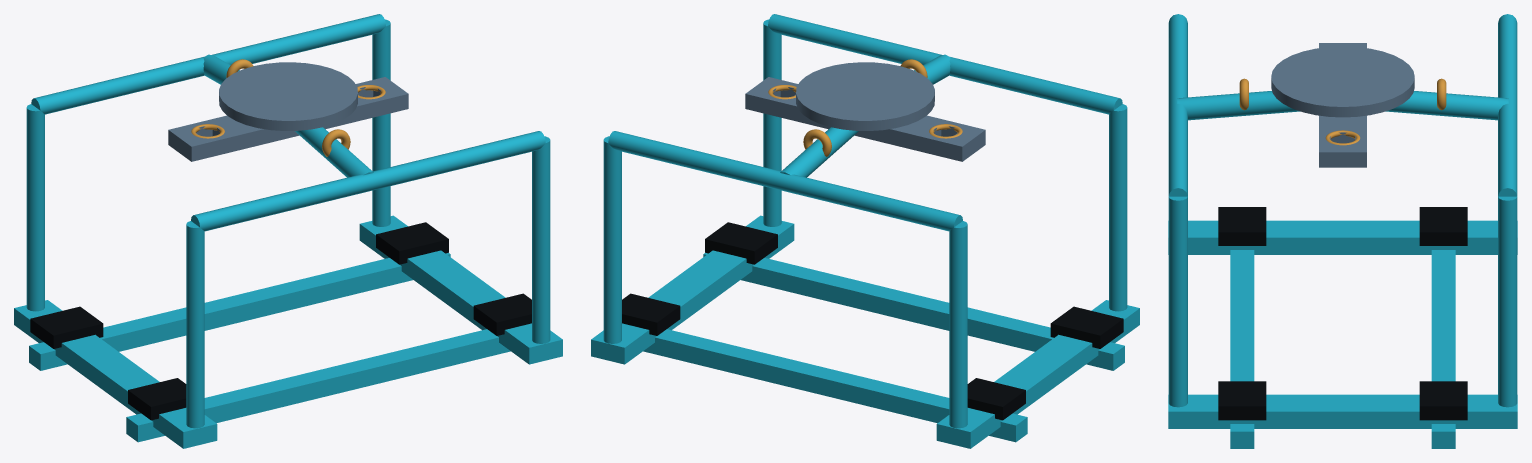
Rendered from rov_yoke.dae.
The picture shows the model from 3 angles, left to right: view 1: azimuth 30°, elevation 25°; view 2: azimuth 150°, elevation 25°; view 3: azimuth 270°, elevation 25°; orthographic projection. The views are drawn at different scales.
Visible parts, largest first — view 1: node1, node0, node24, node14, node12, node2, node5, node8, node9, node11, node10, node3 (+8 smaller); view 2: node0, node1, node24, node12, node14, node2, node5, node9, node8, node10, node11, node4 (+8 smaller); view 3: node5, node24, node2, node10, node11, node0, node1, node12, node14, node13, node15, node6 (+5 smaller).
Part boxes in pixels (x1=…): node1: x1=126, y1=329, x2=510, y2=442; node0: x1=29, y1=253, x2=450, y2=370; node24: x1=219, y1=62, x2=357, y2=130; node14: x1=191, y1=131, x2=545, y2=231; node12: x1=31, y1=14, x2=385, y2=114; node2: x1=14, y1=300, x2=217, y2=448; node5: x1=359, y1=215, x2=562, y2=364; node8: x1=26, y1=104, x2=44, y2=311; node9: x1=186, y1=221, x2=204, y2=428; node11: x1=532, y1=136, x2=550, y2=343; node10: x1=372, y1=19, x2=390, y2=226; node3: x1=30, y1=306, x2=103, y2=348; node0: x1=643, y1=329, x2=1027, y2=442; node1: x1=703, y1=253, x2=1124, y2=370; node24: x1=796, y1=62, x2=934, y2=130; node12: x1=608, y1=131, x2=962, y2=231; node14: x1=768, y1=14, x2=1122, y2=114; node2: x1=936, y1=300, x2=1139, y2=448; node5: x1=591, y1=215, x2=794, y2=364; node9: x1=1109, y1=104, x2=1127, y2=311; node8: x1=949, y1=221, x2=967, y2=428; node10: x1=603, y1=136, x2=621, y2=343; node11: x1=763, y1=19, x2=781, y2=226; node4: x1=1050, y1=306, x2=1123, y2=348; node5: x1=1168, y1=394, x2=1517, y2=428; node24: x1=1271, y1=46, x2=1414, y2=117; node2: x1=1168, y1=220, x2=1517, y2=254; node10: x1=1498, y1=196, x2=1517, y2=407; node11: x1=1168, y1=196, x2=1187, y2=407; node0: x1=1431, y1=250, x2=1455, y2=448; node1: x1=1230, y1=250, x2=1254, y2=448; node12: x1=1498, y1=14, x2=1517, y2=196; node14: x1=1168, y1=14, x2=1187, y2=196; node13: x1=1385, y1=91, x2=1508, y2=120; node15: x1=1177, y1=91, x2=1300, y2=120; node6: x1=1419, y1=381, x2=1467, y2=420.
Size of the model in its own units: 0.51 by 0.365 by 0.31.
